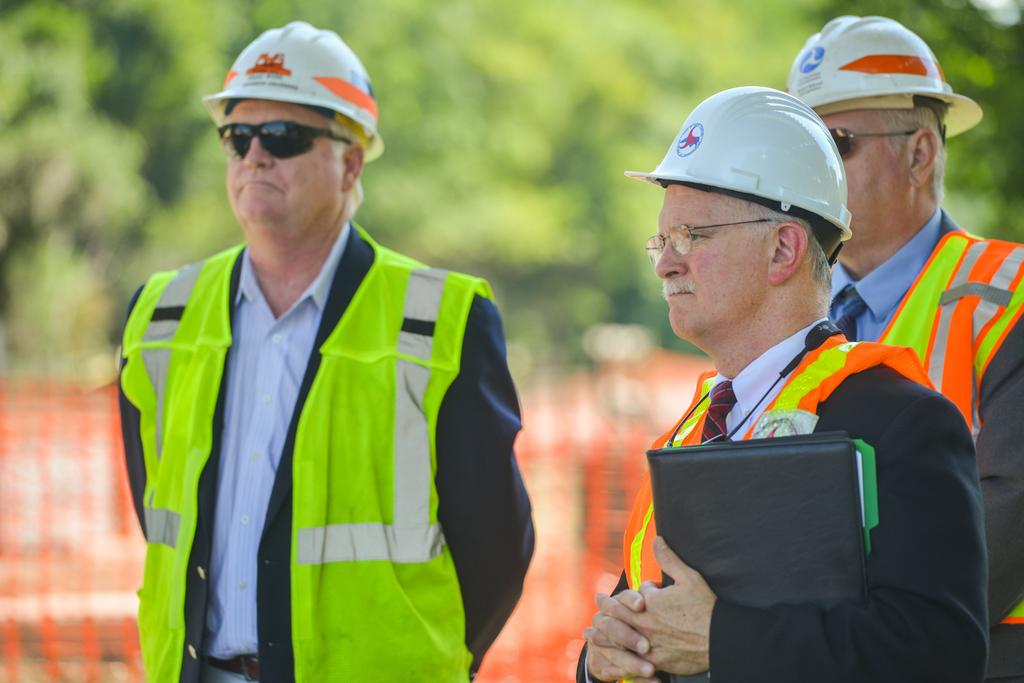helmet: (623, 85, 853, 341), (762, 15, 983, 248), (201, 21, 385, 225)
